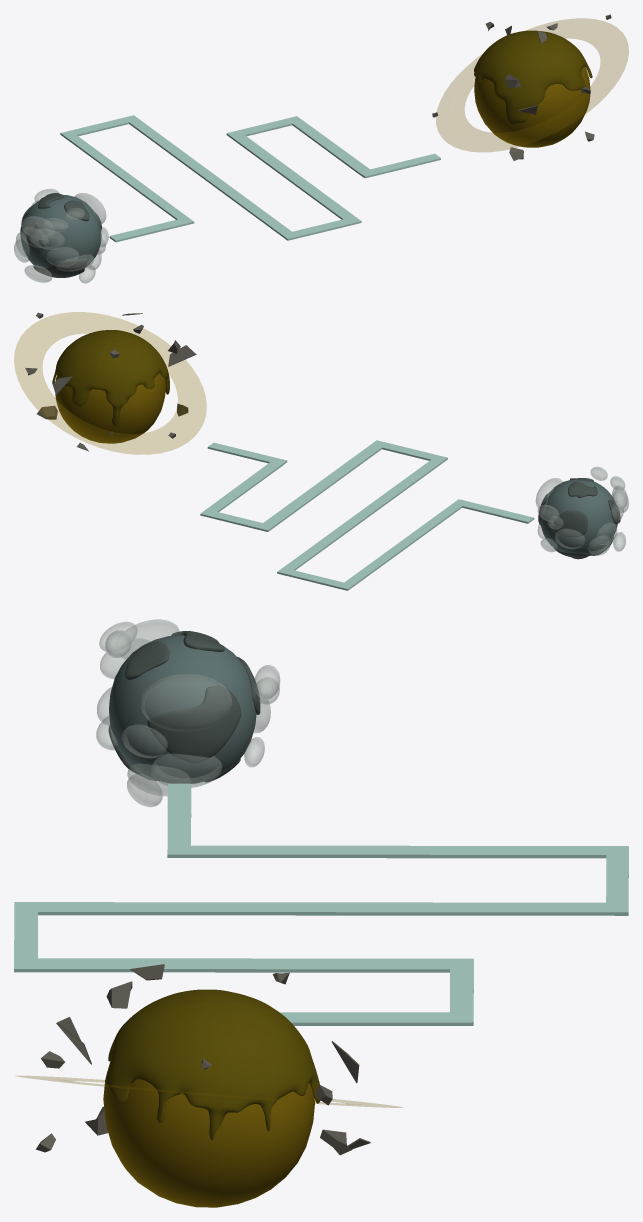
The model's file is Path01_Complete.fbx.
3 views of the same model, one above another, from view 1: azimuth 30°, elevation 25°; view 2: azimuth 150°, elevation 25°; view 3: azimuth 270°, elevation 25° (orthographic). The views are drawn at different scales.
Parts seen in each view (by area): view 1: Path_Level_01, Saturn_Ring, Saturn_Radioactive, Saturn_Ball, Earth_water, Earth_Pollutats, Cloud, pSphere2, pSphere4, pSphere5, pSphere12; view 2: Saturn_Ring, Path_Level_01, Saturn_Radioactive, Saturn_Ball, Earth_water, Earth_Pollutats, pSphere8; view 3: Path_Level_01, Saturn_Radioactive, Saturn_Ball, Earth_water, Earth_Pollutats, pSphere12, pSphere9, pSphere10, pSphere11, Saturn_Ring, Cloud, pSphere14.
Boxes of the visible parts, <box> form: Path_Level_01: <box>60,115,440,242</box>; Saturn_Ring: <box>436,18,628,152</box>; Saturn_Radioactive: <box>474,30,592,124</box>; Saturn_Ball: <box>474,66,590,147</box>; Earth_water: <box>20,195,101,267</box>; Earth_Pollutats: <box>21,193,101,277</box>; Cloud: <box>21,216,55,239</box>; pSphere2: <box>29,229,64,249</box>; pSphere4: <box>46,247,79,266</box>; pSphere5: <box>56,254,94,271</box>; pSphere12: <box>74,193,106,223</box>; Saturn_Ring: <box>14,312,206,454</box>; Path_Level_01: <box>200,440,534,590</box>; Saturn_Radioactive: <box>52,330,169,426</box>; Saturn_Ball: <box>55,373,165,443</box>; Earth_water: <box>540,480,617,555</box>; Earth_Pollutats: <box>538,478,620,559</box>; pSphere8: <box>554,529,585,549</box>; Path_Level_01: <box>14,783,628,1025</box>; Saturn_Radioactive: <box>106,989,320,1139</box>; Saturn_Ball: <box>103,1055,314,1207</box>; Earth_water: <box>109,635,256,783</box>; Earth_Pollutats: <box>108,631,260,782</box>; pSphere12: <box>140,674,232,731</box>; pSphere9: <box>150,753,222,787</box>; pSphere10: <box>127,763,191,796</box>; pSphere11: <box>121,724,167,758</box>; Saturn_Ring: <box>17,1076,402,1107</box>; Cloud: <box>122,619,179,659</box>; pSphere14: <box>127,774,162,807</box>.
Bounding box in the file's own units: 104 × 22.39 × 49.33.
